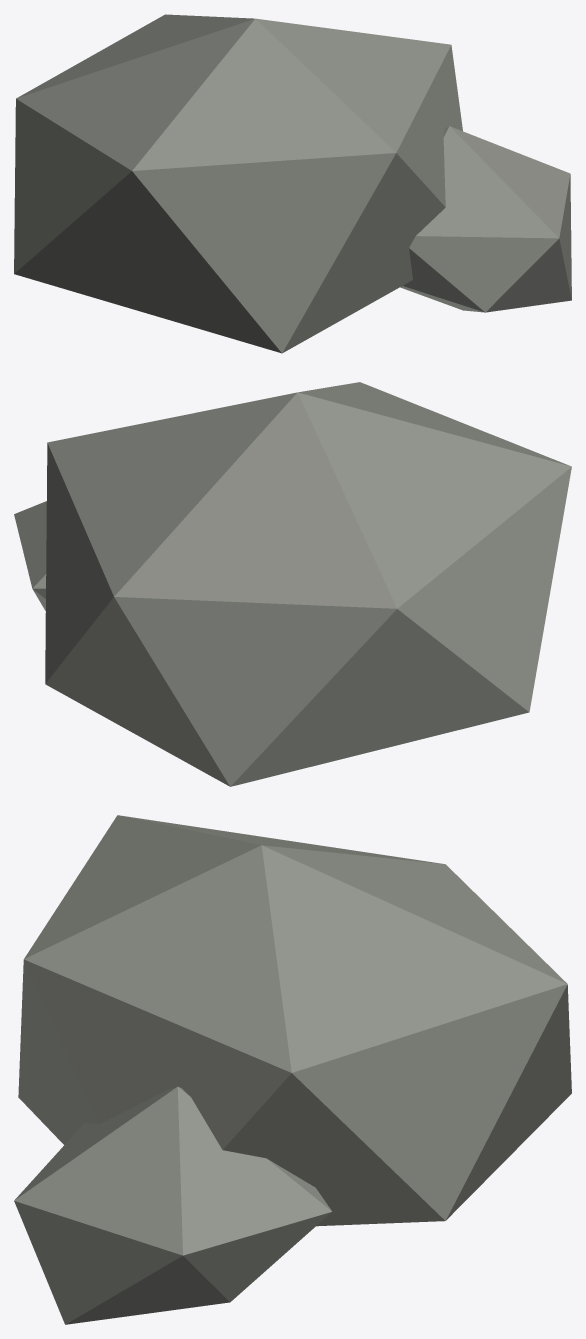
Rendered from env_rock.glb.
The picture shows the model from 3 angles, top to bottom: view 1: azimuth 30°, elevation 25°; view 2: azimuth 150°, elevation 25°; view 3: azimuth 270°, elevation 25°; orthographic projection. The views are drawn at different scales.
Visible parts, largest first — view 1: rock; view 2: rock; view 3: rock.
Boxes of the visible parts, bbox=[...] form: rock: bbox=[14, 14, 571, 353]; rock: bbox=[14, 382, 571, 786]; rock: bbox=[14, 815, 571, 1324].
Size of the model in its own units: 1.82 by 1.06 by 1.43.
Materials: 1 (1 with a texture image).
